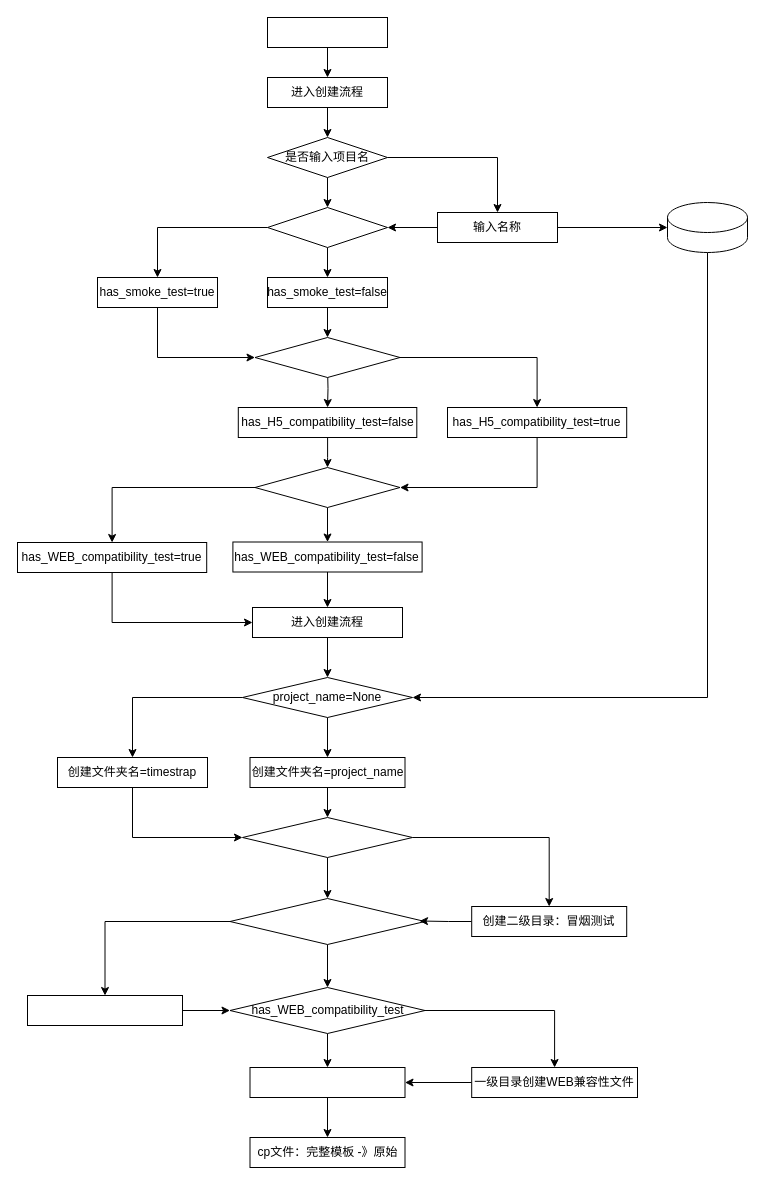
Image size: 765x1185. Some labels were removed from this diagram. The box of each missing label's shape, as (x1, y1, x2, y2) in pixels:
Data: (666, 202, 748, 252)
has_H5_compatibility_test: (229, 898, 425, 944)
has_smoke_test: (242, 816, 412, 858)
一级目录创建H5兼容性文件: (26, 994, 182, 1026)
创建文件夹：执行用例/原始用例: (249, 1066, 405, 1098)
创建项目: (266, 16, 388, 48)
是否包含H5兼容性: (254, 336, 400, 378)
是否包含WEB兼容性: (254, 466, 400, 508)
是否包含冒烟: (266, 206, 388, 248)
